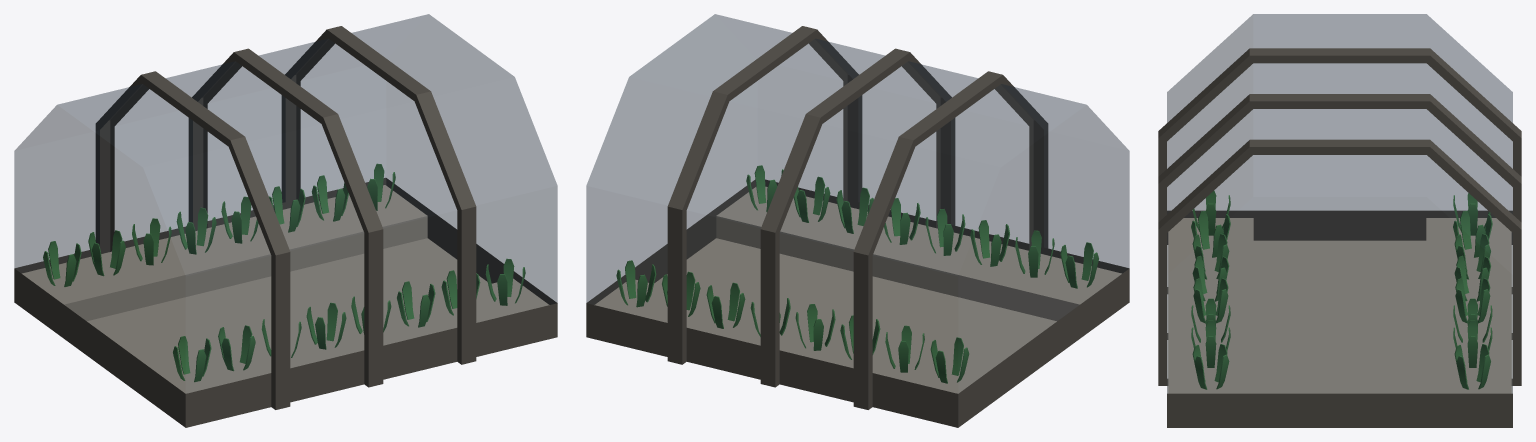
Rendered from 10 Green_house.FBX.
3 views of the same model, side by side, from view 1: azimuth 30°, elevation 25°; view 2: azimuth 150°, elevation 25°; view 3: azimuth 270°, elevation 25° (orthographic).
Parts seen in each view (by area): view 1: Box004; view 2: Box004; view 3: Box004.
Part boxes in pixels (x1,y1,x2,y2): Box004: (14, 14, 557, 427); Box004: (586, 14, 1129, 427); Box004: (1158, 14, 1521, 427).
Bounding box in the file's own units: 1707 × 1039 × 1431.
